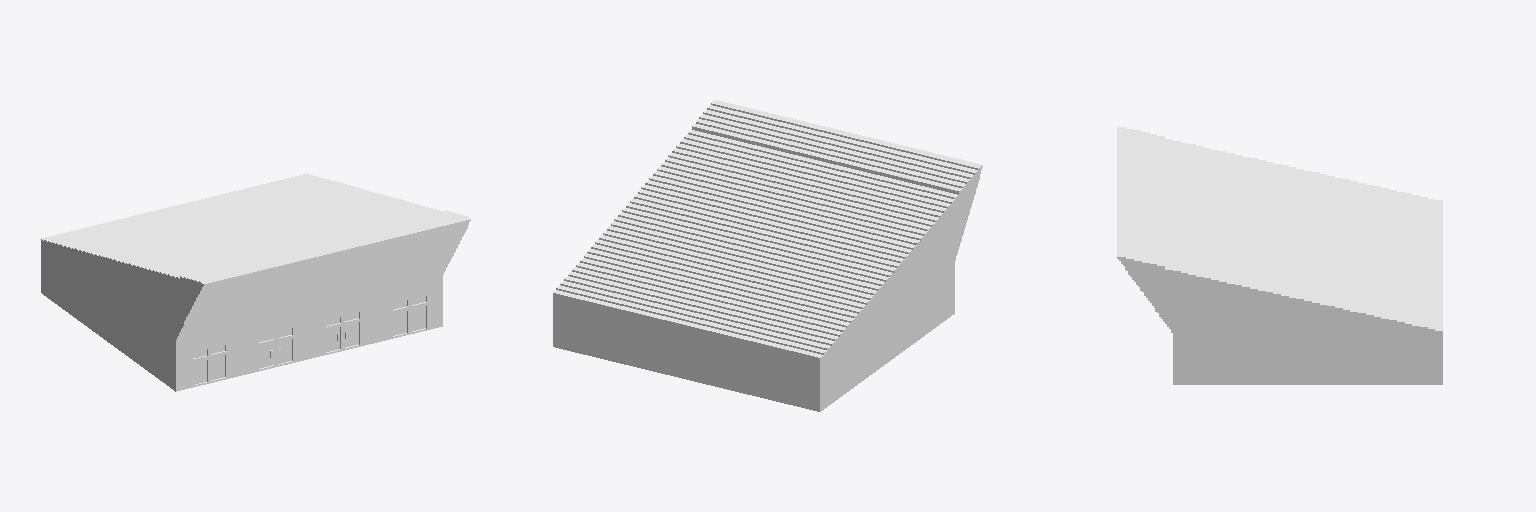
The model's file is Aeroport_terminal.obj.
The picture shows the model from 3 angles: view 1: azimuth 30°, elevation 25°; view 2: azimuth 150°, elevation 25°; view 3: azimuth 270°, elevation 25°; orthographic projection.
Visible parts, largest first — view 1: object 1; view 2: object 1; view 3: object 1.
Boxes of the visible parts, x1,y1,x2,y2 form: object 1: [41, 173, 470, 391]; object 1: [553, 100, 982, 411]; object 1: [1117, 127, 1442, 384].
Size of the model in its own units: 16 by 7.3 by 16.9.